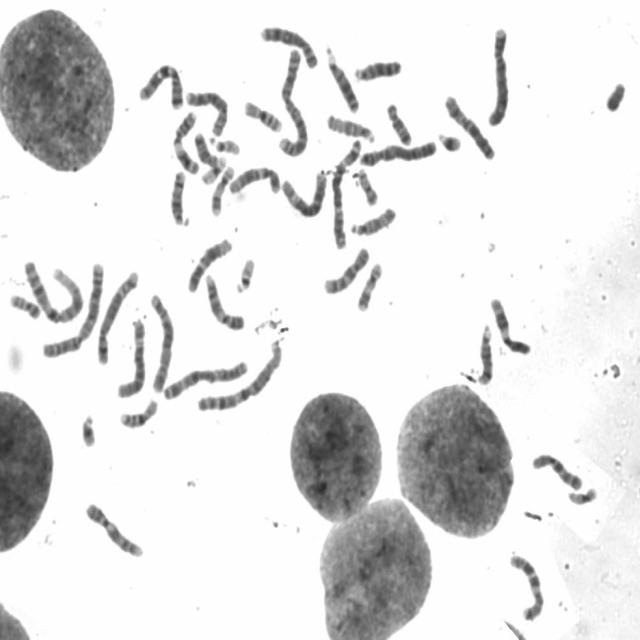A1: (191, 335, 285, 414), (18, 252, 86, 324)
A2: (36, 257, 106, 359), (274, 41, 309, 158)
A3: (159, 353, 250, 402), (326, 133, 364, 250)
B4: (482, 19, 511, 128), (355, 132, 438, 168)
B5: (91, 263, 140, 365), (145, 286, 176, 394)
C10: (319, 240, 371, 296), (528, 446, 584, 492)
C11: (485, 290, 533, 357), (168, 105, 202, 176)
C12: (183, 231, 233, 294), (224, 159, 282, 196)
C6: (112, 312, 148, 399), (277, 164, 329, 219)
C7: (504, 546, 546, 623), (134, 56, 186, 110)
C8: (256, 18, 320, 70), (180, 83, 230, 137)
C9: (81, 496, 145, 560), (201, 267, 246, 331)
D13: (321, 40, 361, 114), (350, 52, 403, 83)
D14: (165, 164, 190, 228), (473, 318, 495, 387)
D15: (321, 106, 377, 144), (346, 200, 397, 237)
E16: (240, 94, 284, 134), (115, 392, 160, 429)
E17: (352, 256, 384, 313), (207, 160, 235, 218)
E18: (382, 95, 414, 147), (190, 127, 222, 167)
F19: (197, 151, 228, 186), (563, 480, 599, 506)
F20: (5, 286, 42, 321), (352, 162, 380, 207)
G21: (76, 407, 98, 448), (433, 125, 464, 154)
G22: (231, 250, 257, 294), (207, 132, 242, 155)
X: (440, 88, 497, 161)
Y: (600, 74, 628, 114)
